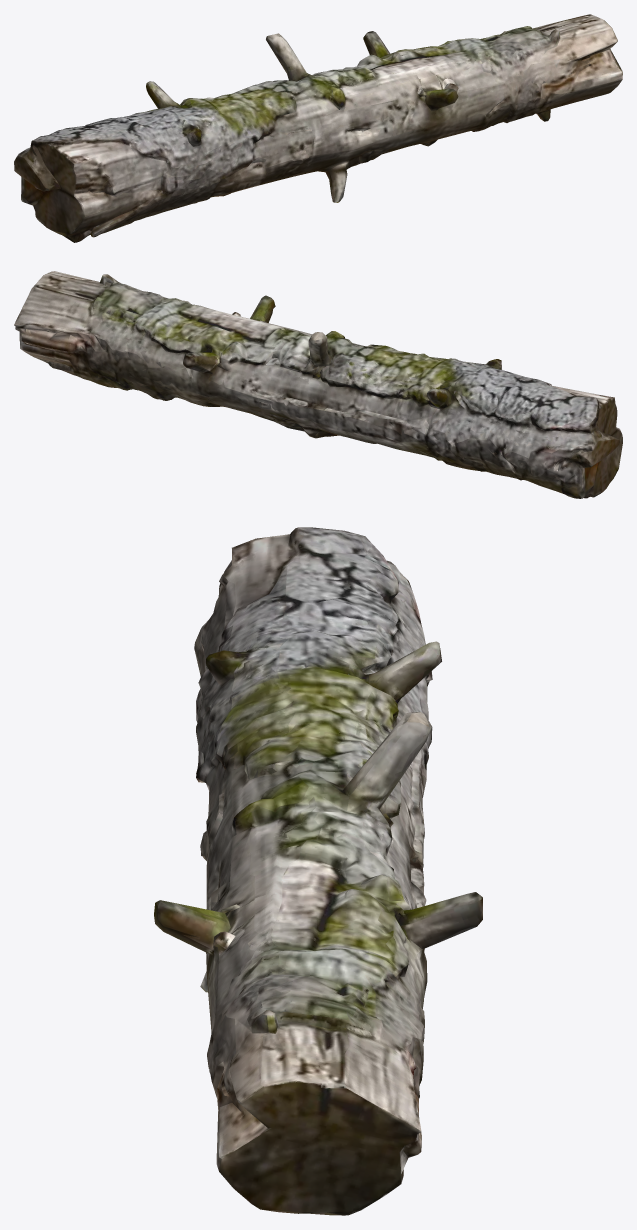
Rendered from fallen-log-lod.glb.
3 views of the same model, one above another, from view 1: azimuth 30°, elevation 25°; view 2: azimuth 150°, elevation 25°; view 3: azimuth 270°, elevation 25° (orthographic). The views are drawn at different scales.
Visible parts, largest first — view 1: geometry_0; view 2: geometry_0; view 3: geometry_0.
Boxes of the visible parts, x1,y1,x2,y2 form: geometry_0: (14, 14, 622, 242); geometry_0: (14, 271, 622, 498); geometry_0: (154, 527, 482, 1215).
Size of the model in its own units: 2.5 by 0.5657 by 0.6294.
1 material, 1 textured.
